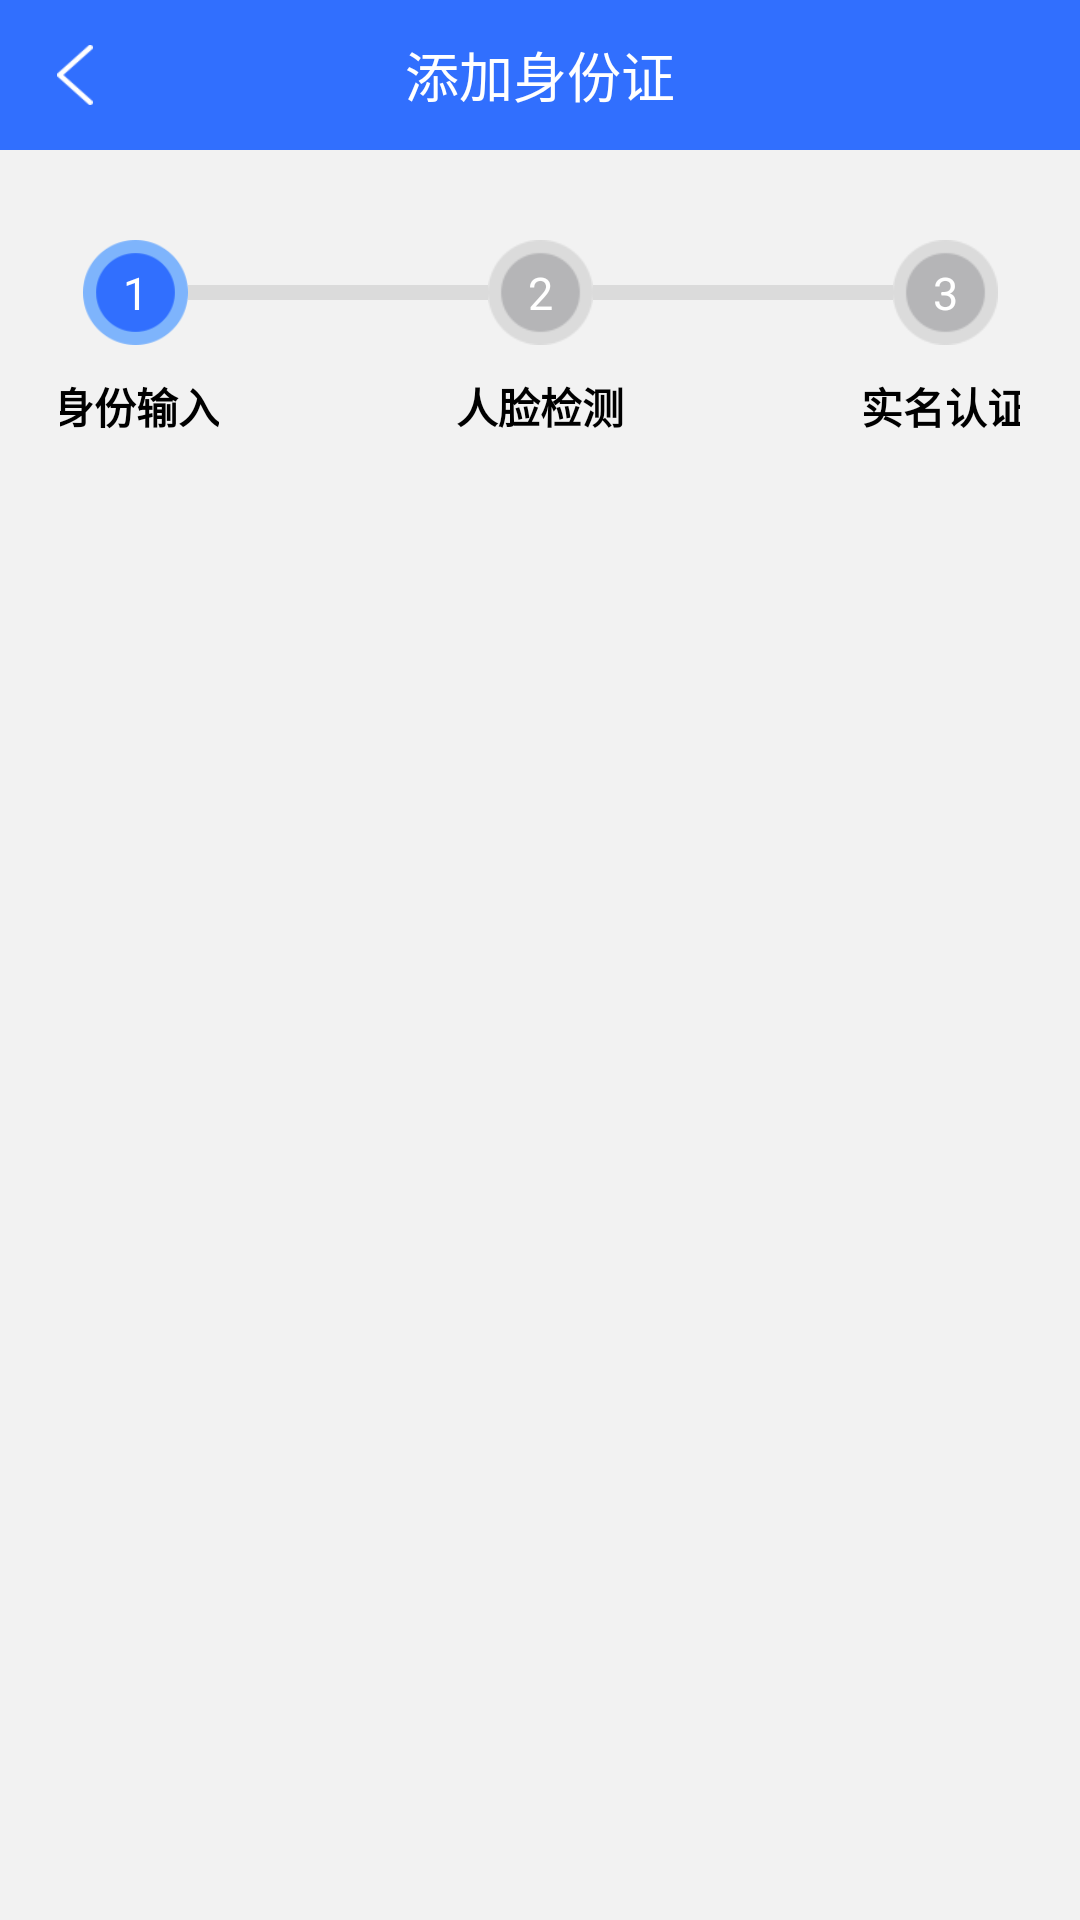

Where icons sit on this 1080x1920 app screen, as [x1=x1, y1=y1, x2=x2, y2=y2]:
return: [x1=57, y1=45, x2=93, y2=105]
